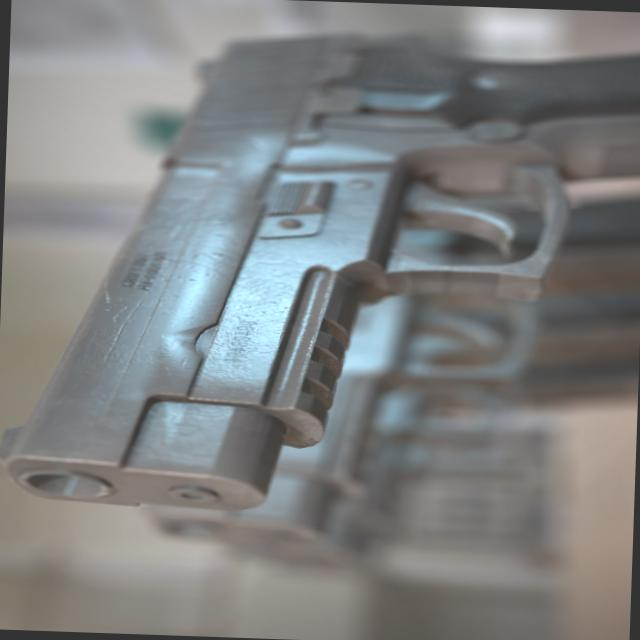handgun: (3, 26, 639, 531)
